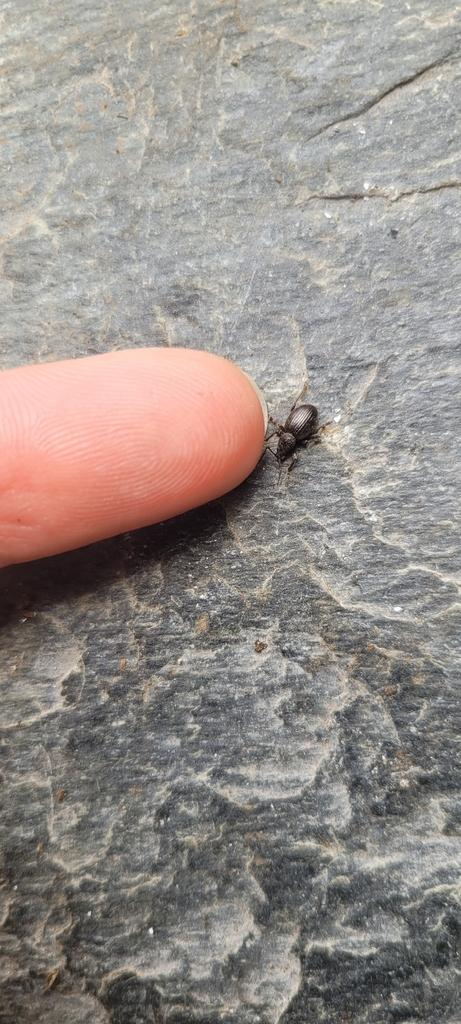weevils: (249, 374, 347, 478)
